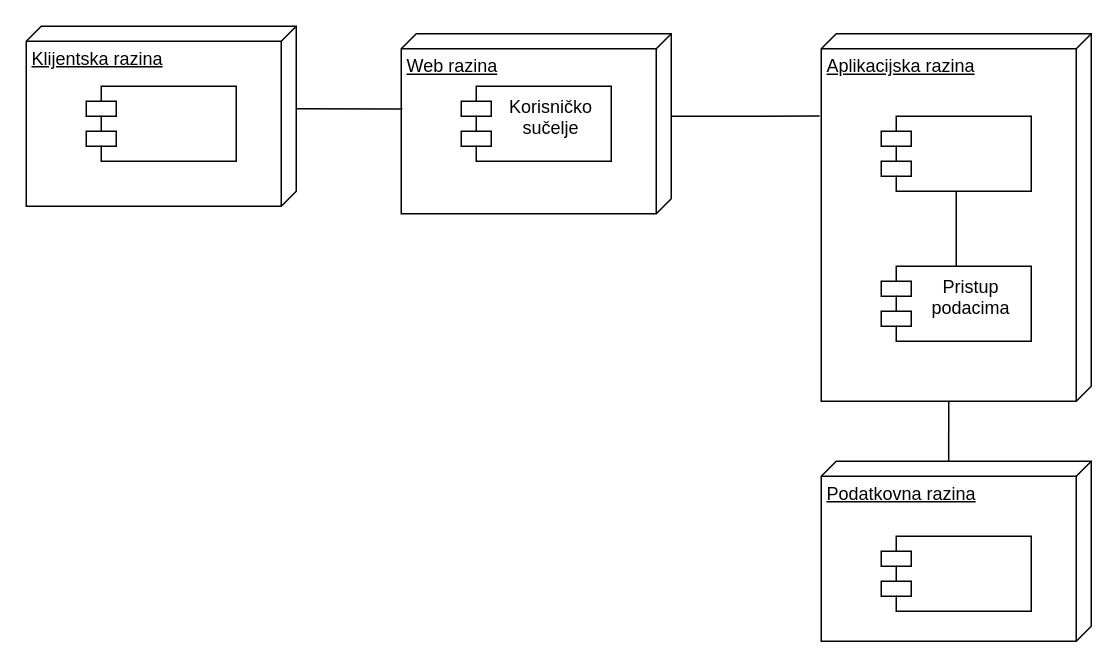
The diagram is 1118 pixels wide and 668 high, and some of its shapes have lost their labels. Each missing label, with the centre of its shape:
"Poslovna logika" goes at (955,153).
"SQL baza podataka" goes at (955,573).
"TV" goes at (160,123).
